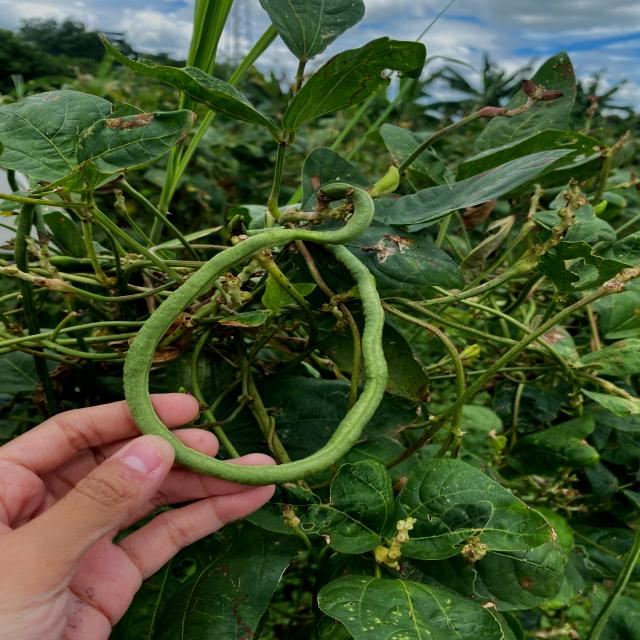10: (124, 230, 389, 485)
sitaw-aphid-high: (0, 90, 195, 191), (317, 575, 505, 640)
sitaw-aphid-low: (152, 521, 303, 640), (282, 37, 426, 146), (402, 492, 552, 560), (321, 460, 395, 554)
